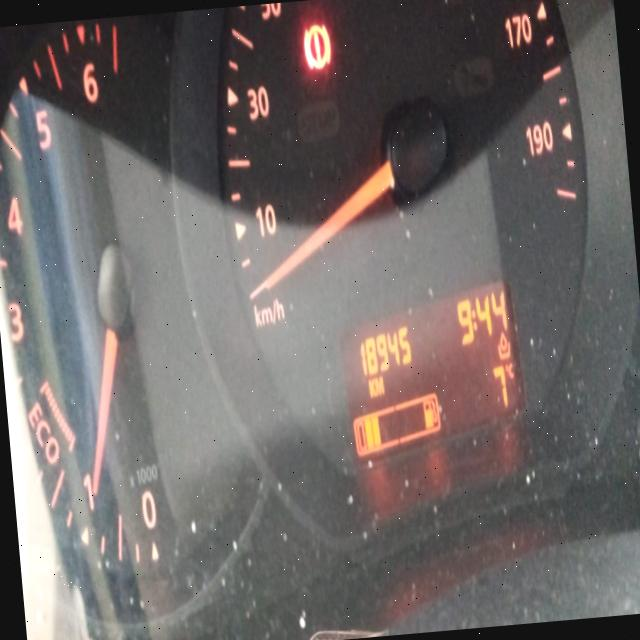odometer: (328, 270, 536, 478)
